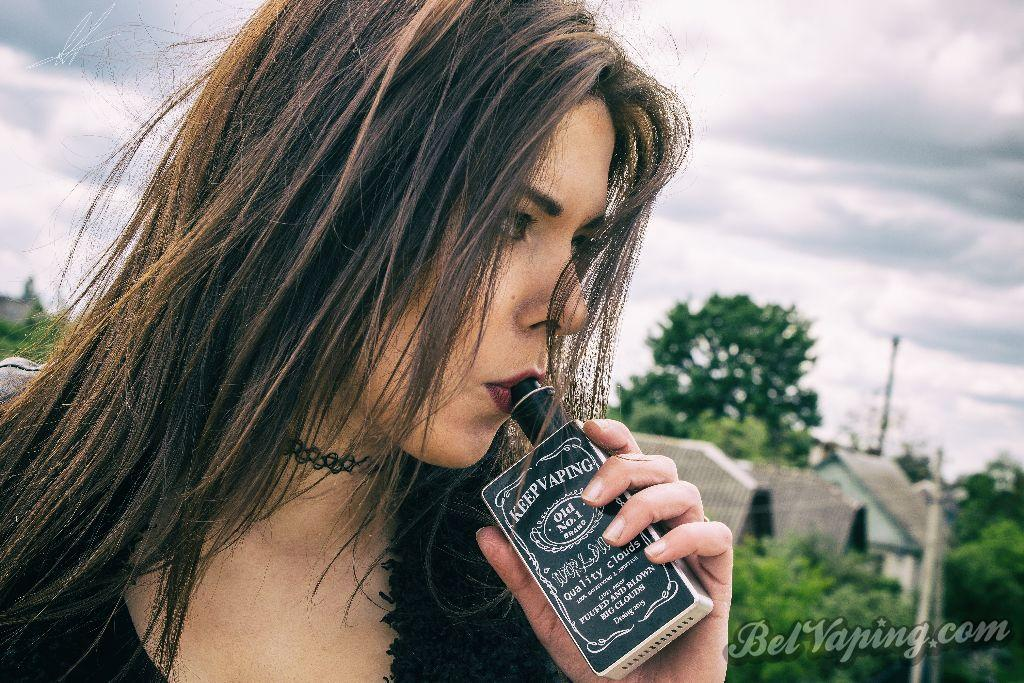Vape: (481, 376, 714, 682)
